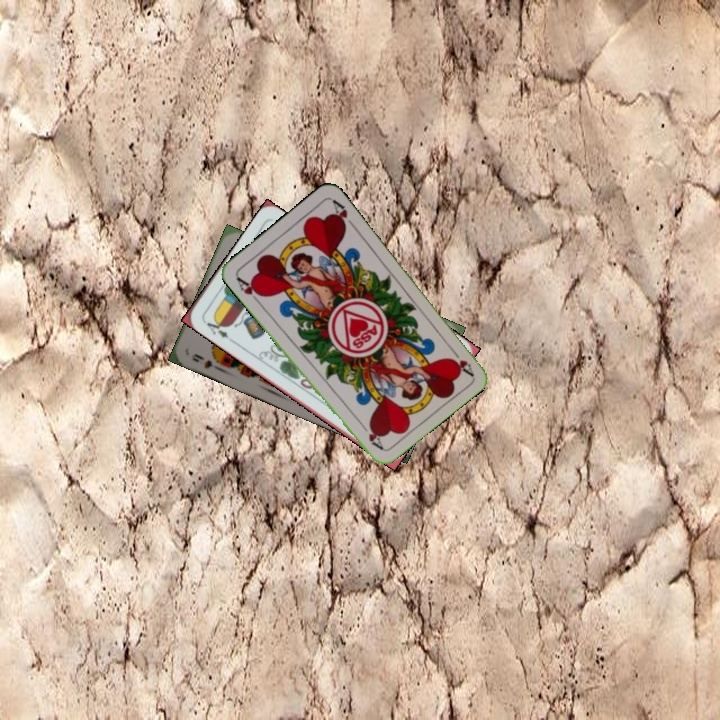EA: (199, 314, 231, 341)
HA: (232, 272, 265, 307), (446, 343, 476, 378)
S9: (188, 350, 224, 374)
